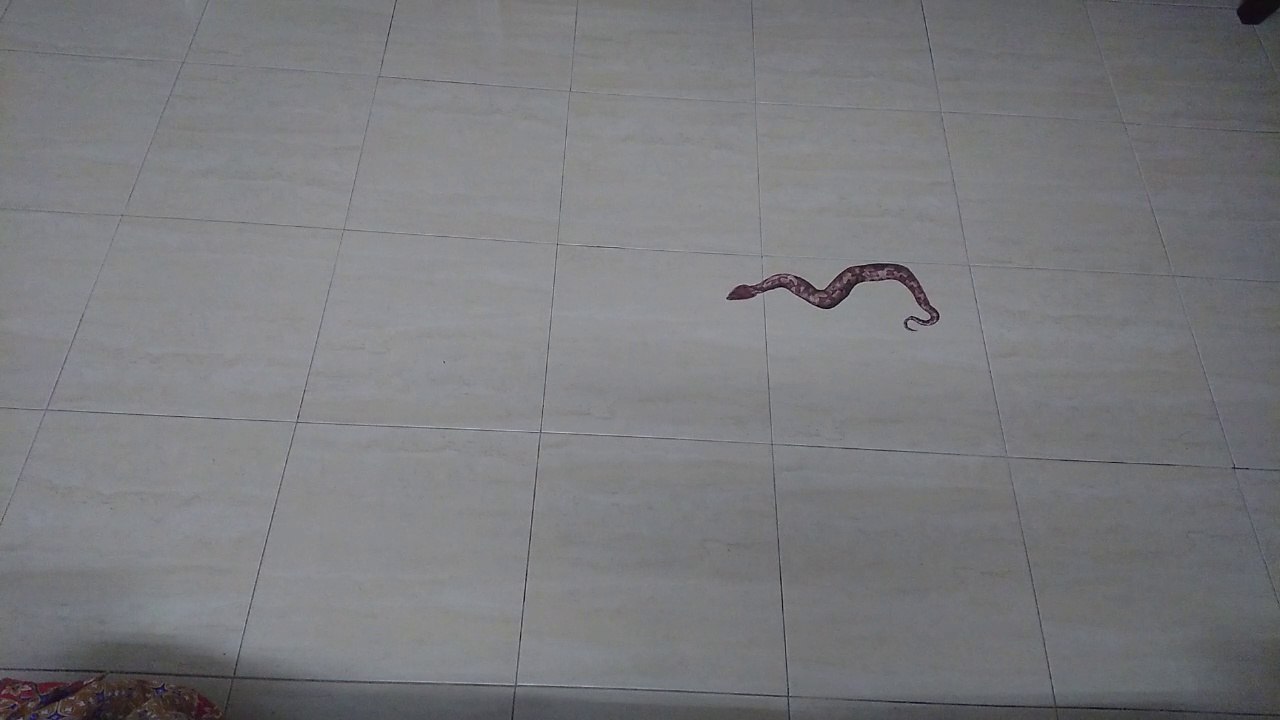snake: (711, 248, 948, 346)
